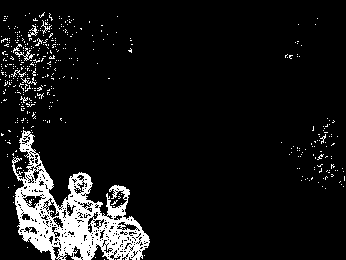person: (20, 167, 56, 255), (70, 169, 94, 260)
